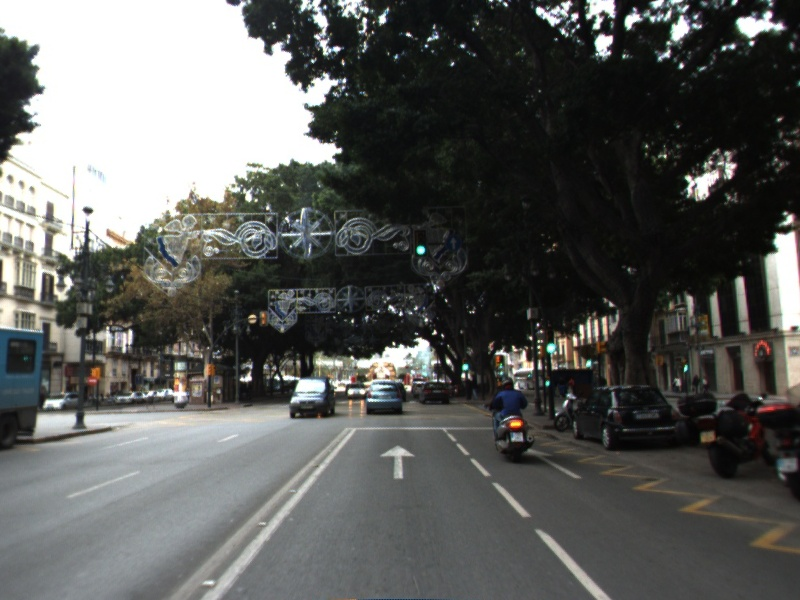STRAIGHT: (521, 445, 584, 480), (378, 443, 417, 482)
